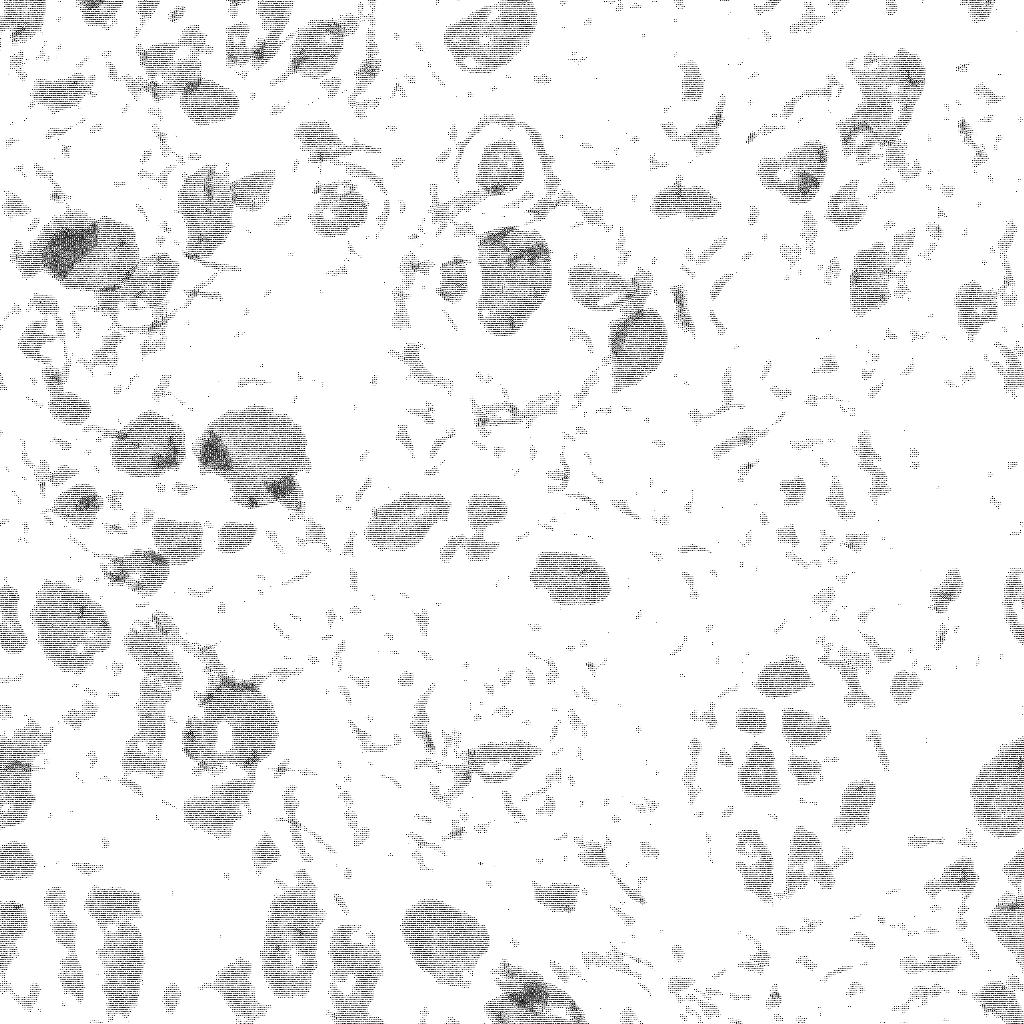axone: (192, 403, 318, 515), (831, 42, 930, 163), (183, 668, 289, 780), (81, 879, 153, 1024), (470, 223, 559, 339), (24, 571, 115, 681), (398, 895, 499, 993), (257, 875, 333, 1003), (36, 210, 142, 297), (437, 1, 548, 83), (324, 915, 404, 1024), (132, 21, 219, 106), (173, 156, 238, 266), (359, 486, 457, 555), (526, 543, 618, 614), (602, 304, 672, 397), (102, 408, 191, 480), (561, 254, 657, 320), (93, 253, 181, 322), (175, 776, 254, 845), (752, 137, 830, 206), (284, 13, 350, 94), (306, 174, 374, 246), (945, 277, 1009, 353), (97, 547, 179, 603), (645, 174, 727, 226), (846, 236, 898, 317), (471, 132, 532, 199), (144, 514, 211, 572), (748, 655, 824, 703), (181, 73, 244, 129), (737, 736, 784, 809), (830, 775, 882, 840), (49, 482, 111, 535), (776, 701, 840, 747), (226, 166, 283, 216), (464, 488, 514, 530)
